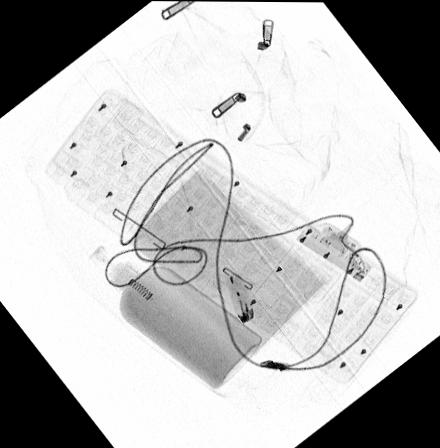Lighter: (225, 270, 255, 322)
